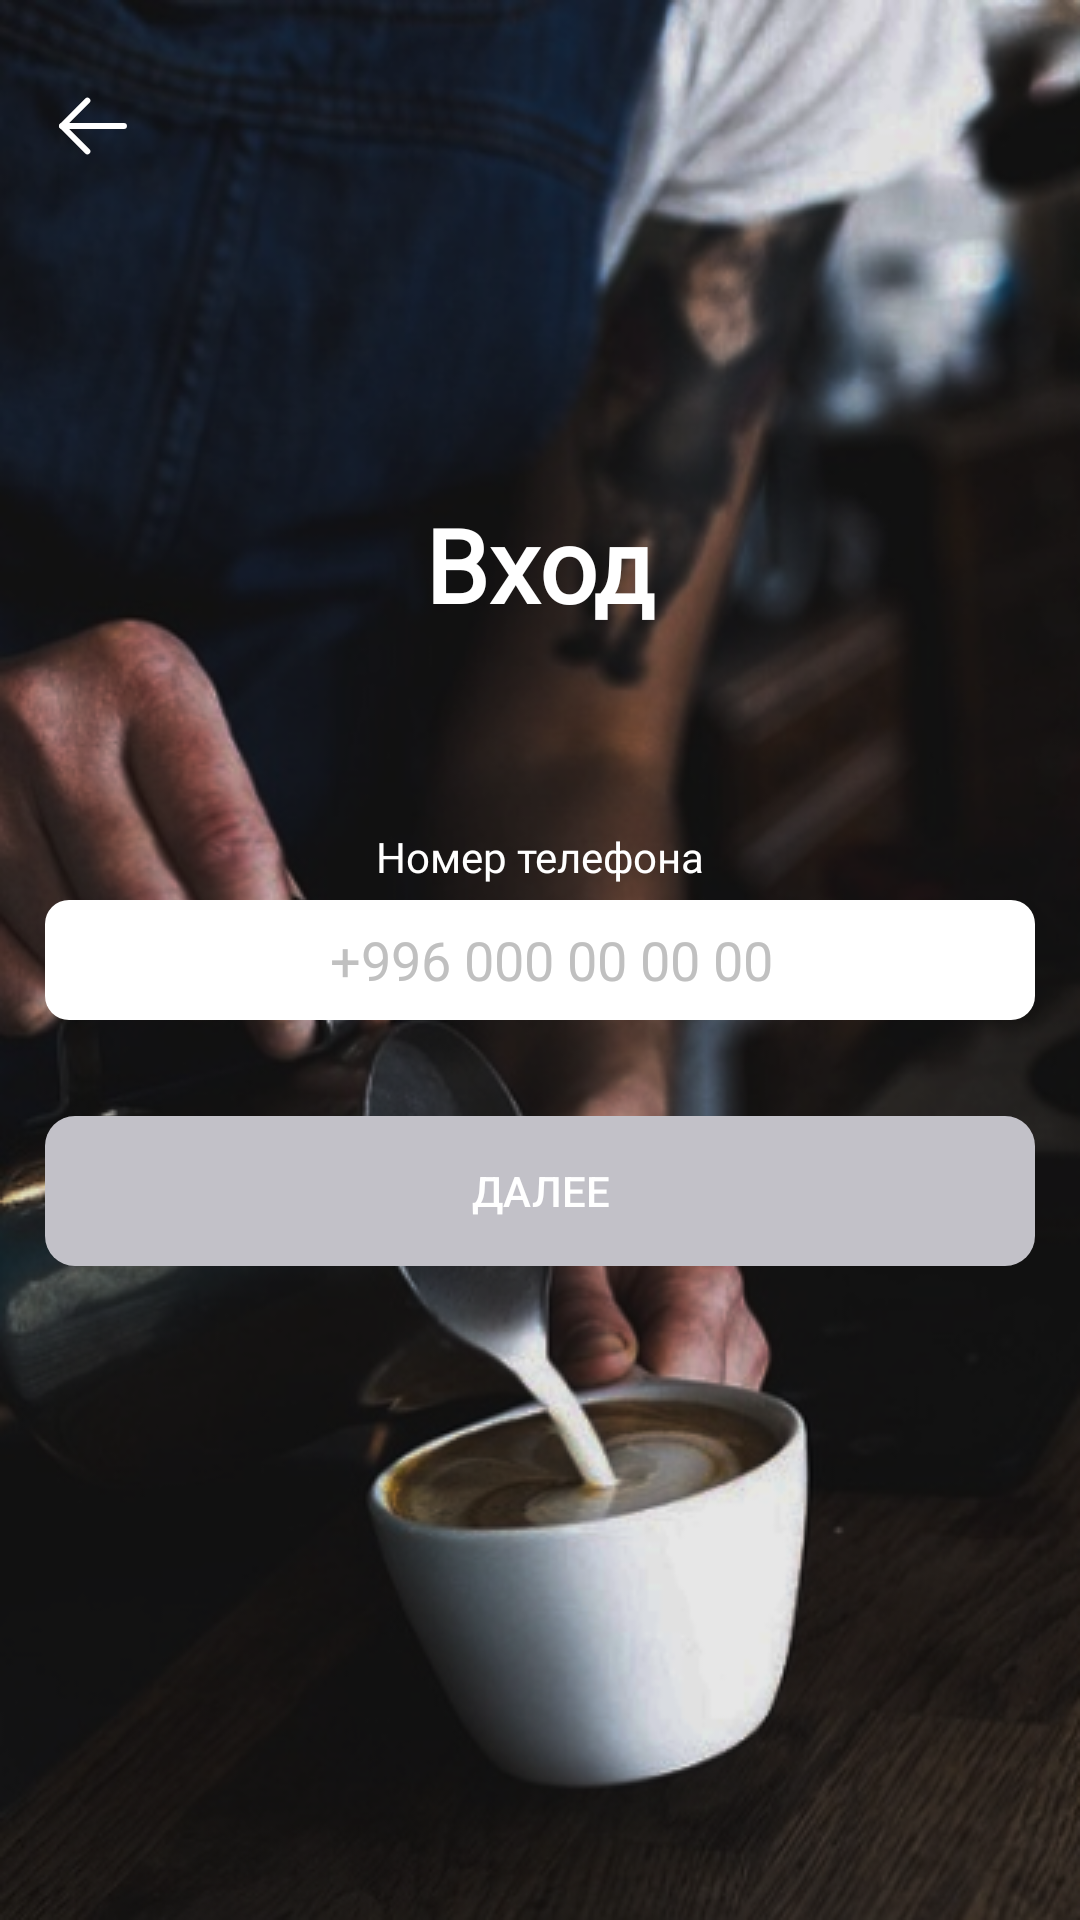

Icon bounding boxes for this 1080px×1920px phone screenshot, format (x1=x1, y1=y1, x2=x2, y2=y2):
arrow: (x1=59, y1=97, x2=127, y2=155)
